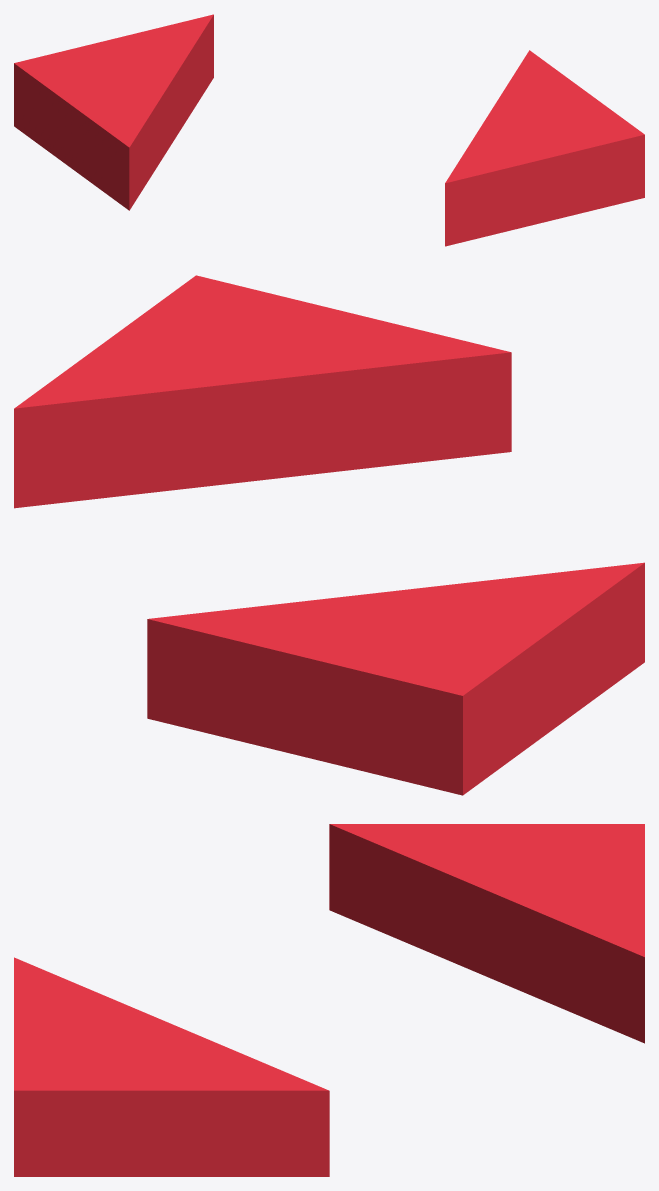
File: Paredes 5.FBX
The picture shows the model from 3 angles, top to bottom: view 1: azimuth 30°, elevation 25°; view 2: azimuth 150°, elevation 25°; view 3: azimuth 270°, elevation 25°; orthographic projection. The views are drawn at different scales.
Parts seen in each view (by area): view 1: obstacleTriangle; view 2: obstacleTriangle; view 3: obstacleTriangle.
Part boxes in pixels (left/top/right/bottom): obstacleTriangle: left=14, top=14, right=644, bottom=246; obstacleTriangle: left=14, top=275, right=644, bottom=795; obstacleTriangle: left=14, top=824, right=644, bottom=1176.
Bounding box in the file's own units: 55.21 × 8.33 × 55.21.
